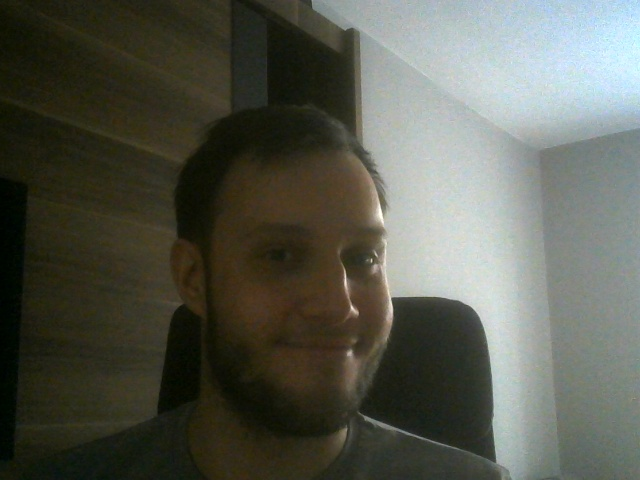happy: (170, 105, 396, 428)
